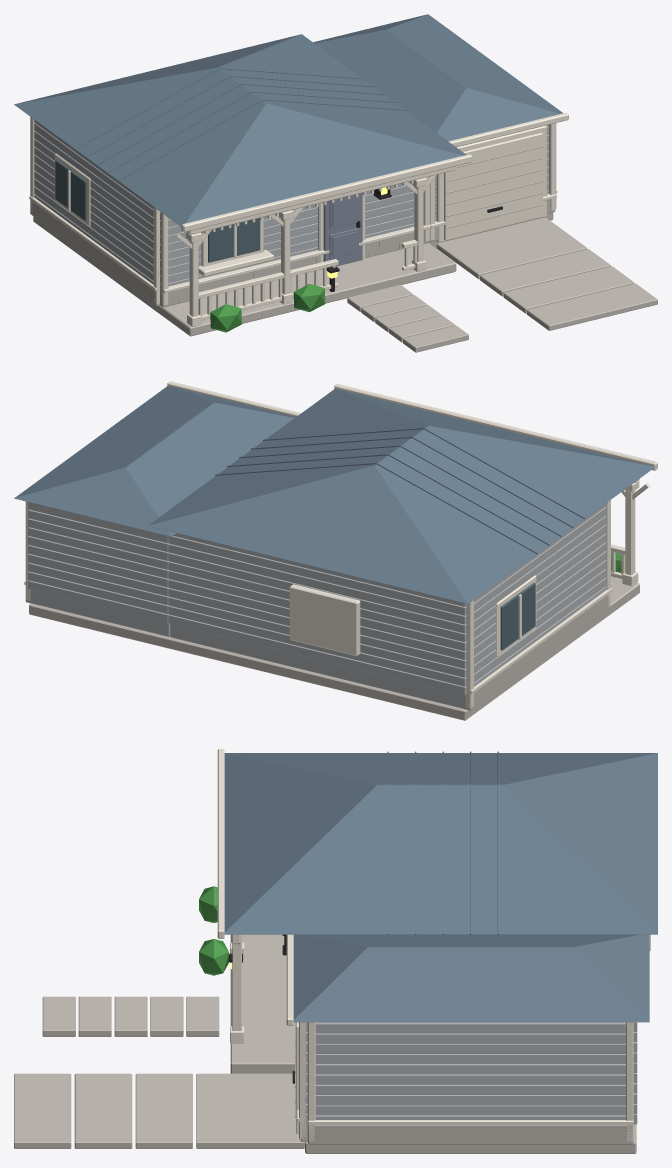
File: small_house_02.fbx
The picture shows the model from 3 angles, top to bottom: view 1: azimuth 30°, elevation 25°; view 2: azimuth 150°, elevation 25°; view 3: azimuth 270°, elevation 25°; orthographic projection. The views are drawn at different scales.
Visible parts, largest first — view 1: Roof_Main, Roof_Garage, GarageDoor_Plain, Porch_Slab, Driveway_Slab_03, Roof_Fascia_Main, Driveway_Slab_02, Driveway_Slab_01, Driveway_Slab_00, Garage_Apron, Wall_Skirt_Main, Wall_Skirt_Left (+45 smaller); view 2: Roof_Main, Roof_Garage, Foundation_Main, Structure_Main, Window_Frame_Rear, Detail_Siding_Main_Rear_08, Detail_Siding_Main_Rear_00, Detail_Siding_Main_Rear_09, Detail_Siding_Main_Rear_01, Wall_Skirt_Left, Detail_Siding_Main_Rear_07, Detail_Siding_Main_Rear_02 (+35 smaller); view 3: Roof_Main, Roof_Garage, Porch_Slab, Wall_Skirt_Right, Driveway_Slab_02, Driveway_Slab_01, Driveway_Slab_03, Driveway_Slab_00, Detail_Siding_Right_09, Detail_Siding_Right_04, Detail_Siding_Right_08, Detail_Siding_Right_01 (+22 smaller).
Part boxes in pixels (x1,y1,x2,y2): Roof_Main: [14, 34, 466, 226]; Roof_Garage: [313, 14, 562, 141]; GarageDoor_Plain: [444, 132, 542, 240]; Porch_Slab: [160, 243, 456, 336]; Driveway_Slab_03: [527, 283, 657, 330]; Roof_Fascia_Main: [181, 154, 472, 232]; Driveway_Slab_02: [503, 266, 634, 313]; Driveway_Slab_01: [480, 249, 610, 296]; Driveway_Slab_00: [457, 232, 587, 279]; Garage_Apron: [436, 217, 565, 263]; Wall_Skirt_Main: [160, 230, 429, 307]; Wall_Skirt_Left: [30, 201, 159, 306]; Roof_Main: [148, 389, 654, 603]; Roof_Garage: [14, 386, 295, 536]; Foundation_Main: [29, 603, 607, 720]; Structure_Main: [170, 623, 465, 709]; Window_Frame_Rear: [289, 584, 360, 656]; Detail_Siding_Main_Rear_08: [168, 543, 466, 624]; Detail_Siding_Main_Rear_00: [168, 614, 466, 695]; Detail_Siding_Main_Rear_09: [168, 536, 466, 615]; Detail_Siding_Main_Rear_01: [168, 605, 466, 686]; Wall_Skirt_Left: [465, 594, 610, 710]; Detail_Siding_Main_Rear_07: [168, 552, 466, 633]; Detail_Siding_Main_Rear_02: [168, 597, 466, 677]; Roof_Main: [224, 753, 657, 934]; Roof_Garage: [293, 934, 649, 1022]; Porch_Slab: [230, 934, 294, 1073]; Wall_Skirt_Right: [308, 1125, 633, 1144]; Driveway_Slab_02: [74, 1073, 132, 1148]; Driveway_Slab_01: [135, 1073, 192, 1148]; Driveway_Slab_03: [14, 1073, 71, 1148]; Driveway_Slab_00: [196, 1073, 252, 1148]; Detail_Siding_Right_09: [315, 1022, 625, 1033]; Detail_Siding_Right_04: [315, 1074, 625, 1084]; Detail_Siding_Right_08: [315, 1033, 625, 1043]; Detail_Siding_Right_01: [315, 1105, 625, 1115].
Size of the model in its own units: 1113 by 414 by 1166.
